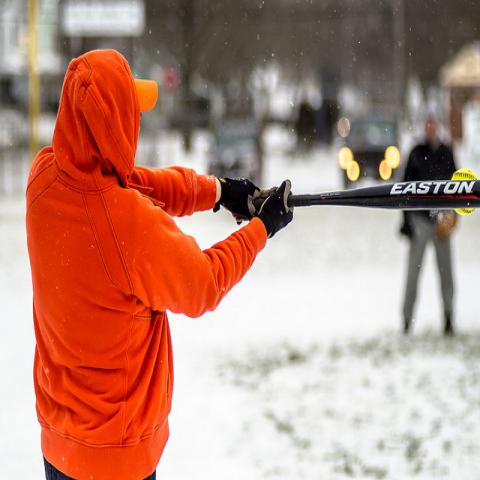car: (340, 118, 398, 185), (209, 126, 262, 187)
